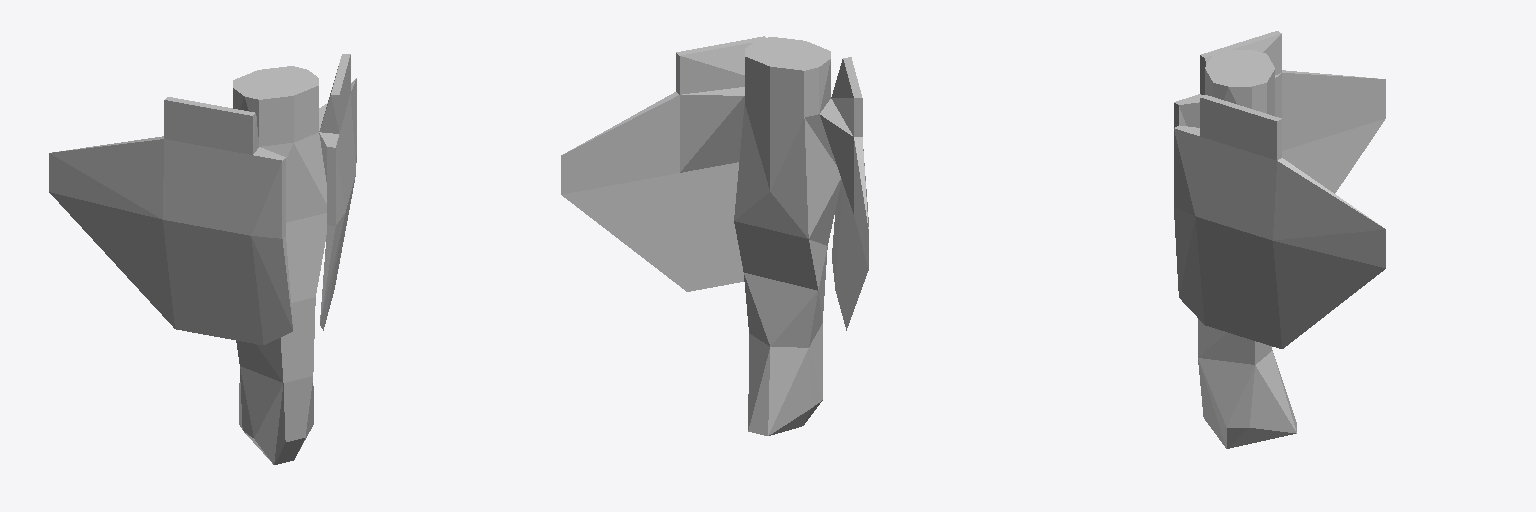
The model's file is fighter.obj.
The picture shows the model from 3 angles: view 1: azimuth 30°, elevation 25°; view 2: azimuth 150°, elevation 25°; view 3: azimuth 270°, elevation 25°; orthographic projection.
Parts seen in each view (by area): view 1: Cube; view 2: Cube; view 3: Cube.
Boxes of the visible parts, box(x1,y1,x2,y2) form: Cube: box(49, 54, 356, 464); Cube: box(561, 36, 868, 435); Cube: box(1174, 31, 1385, 448).
Bounding box in the file's own units: 8.24 × 9.6 × 4.93.